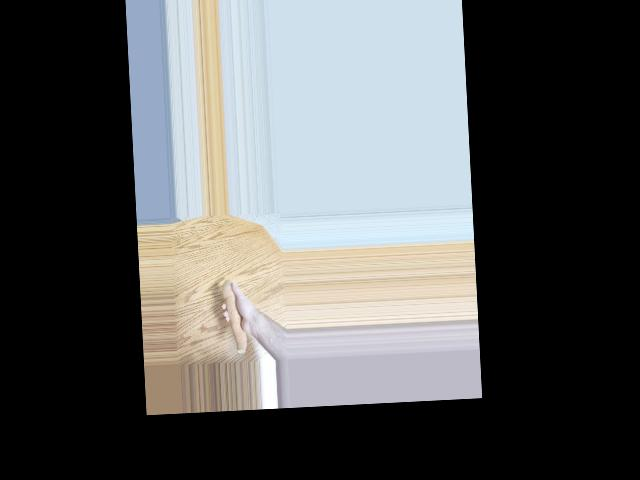sweet_potato: (220, 279, 250, 357)
